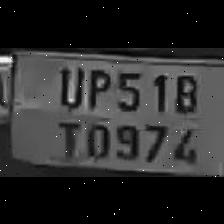0: (80, 116, 110, 159)
1: (146, 68, 170, 114)
4: (166, 119, 200, 163)
5: (110, 65, 144, 111)
7: (140, 118, 168, 162)
9: (111, 118, 139, 158)
B: (168, 68, 198, 114)
P: (82, 62, 110, 110)
T: (51, 114, 81, 158)
U: (55, 60, 83, 110)
